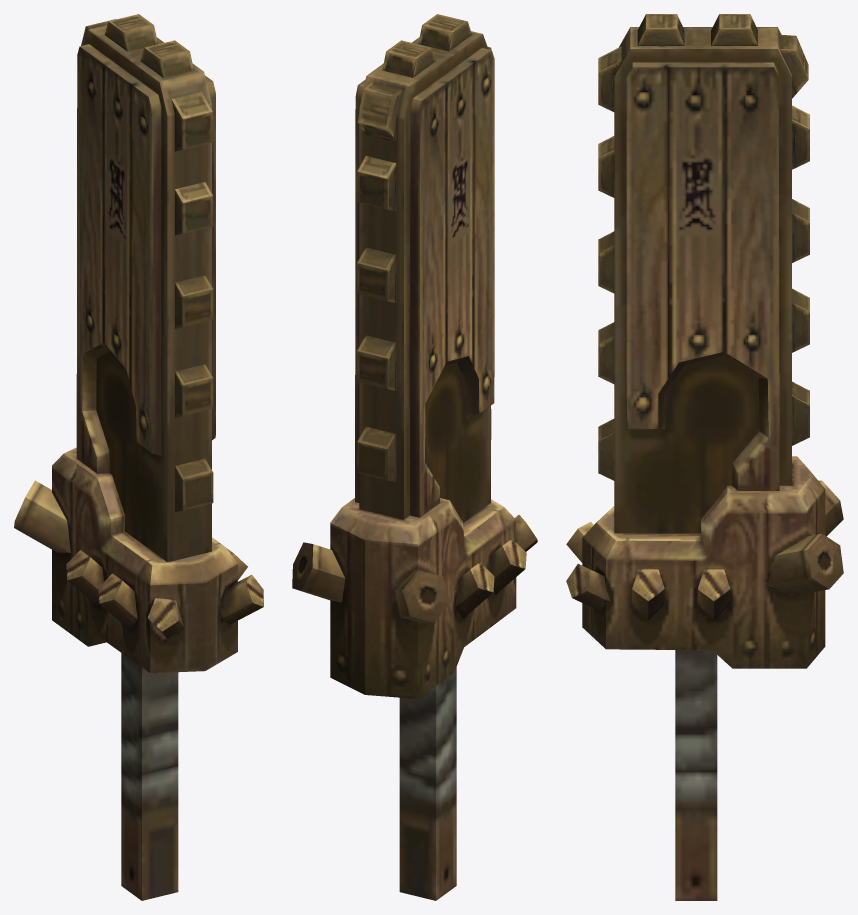
The picture shows the model from 3 angles, left to right: view 1: azimuth 30°, elevation 25°; view 2: azimuth 150°, elevation 25°; view 3: azimuth 270°, elevation 25°; orthographic projection. The views are drawn at different scales.
Visible parts, largest first — view 1: Editable Poly48; view 2: Editable Poly48; view 3: Editable Poly48.
Boxes of the visible parts, bbox=[...] form: Editable Poly48: bbox=[14, 14, 263, 900]; Editable Poly48: bbox=[292, 14, 537, 900]; Editable Poly48: bbox=[566, 14, 843, 900].
Size of the model in its own units: 17.36 by 89.83 by 25.96.
1 material, 1 textured.
